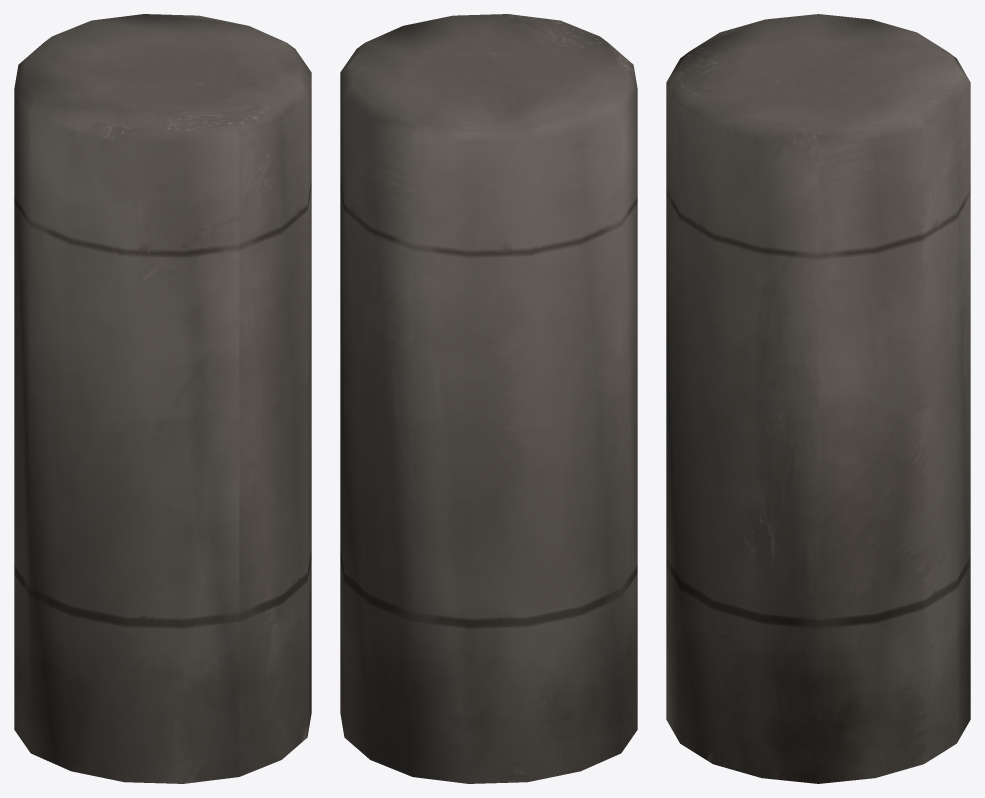
The model's file is o3_colonnina.glb.
The picture shows the model from 3 angles, left to right: view 1: azimuth 30°, elevation 25°; view 2: azimuth 150°, elevation 25°; view 3: azimuth 270°, elevation 25°; orthographic projection.
Visible parts, largest first — view 1: sb_modello; view 2: sb_modello; view 3: sb_modello.
Boxes of the visible parts, bbox=[...] form: sb_modello: bbox=[14, 14, 311, 783]; sb_modello: bbox=[340, 14, 637, 783]; sb_modello: bbox=[666, 14, 970, 783].
Size of the model in its own units: 0.3289 by 0.77 by 0.3289.
1 material, 1 textured.
